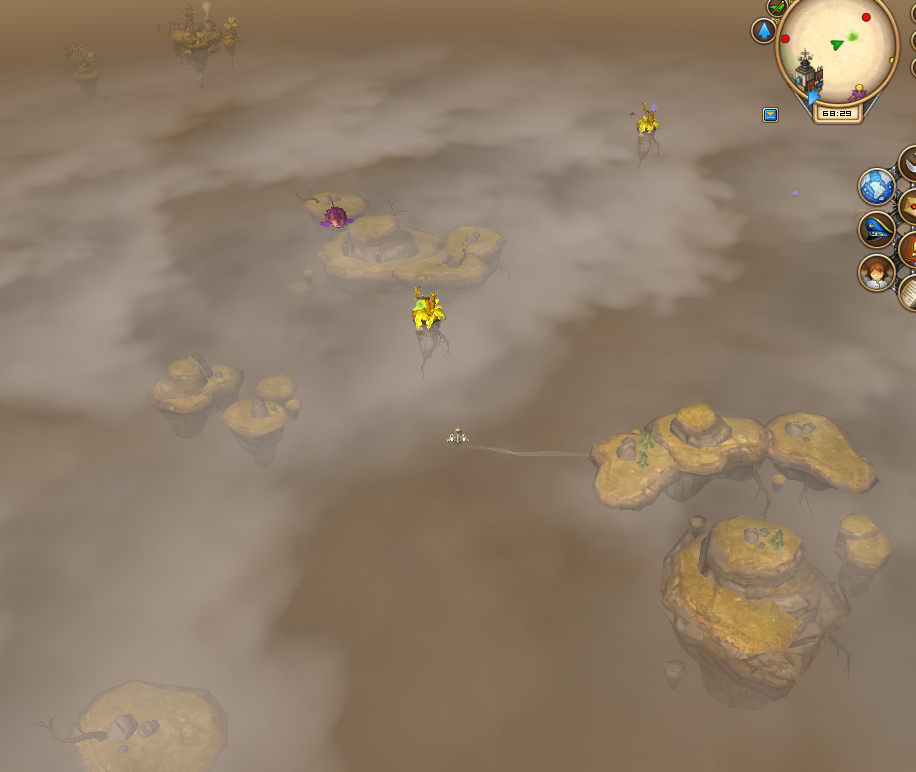dandelion-empty: (404, 282, 455, 365)
dandelion-full: (629, 96, 667, 169)
fluff: (788, 186, 804, 203)
